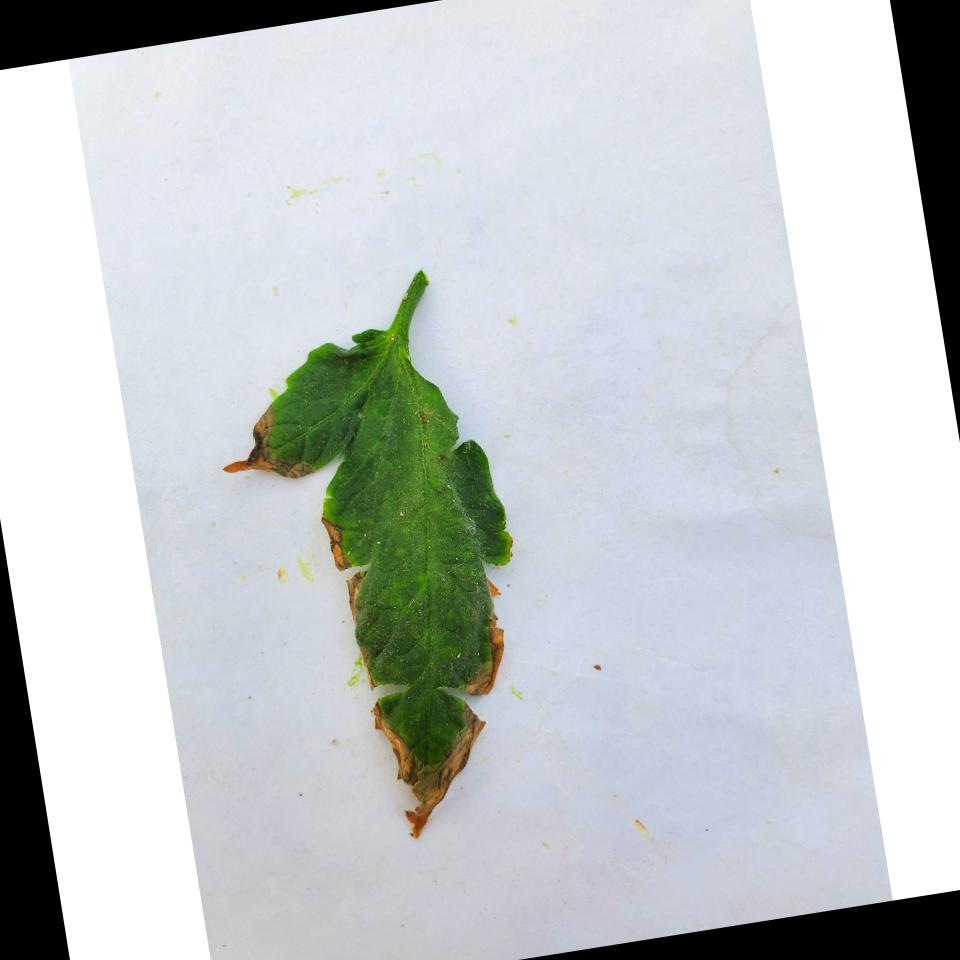tomato_bacterial_blight: (206, 232, 568, 867)
